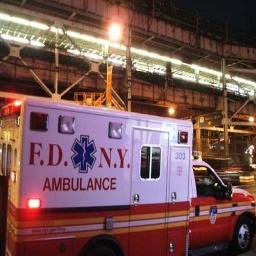Ambulance: (0, 98, 254, 255)
